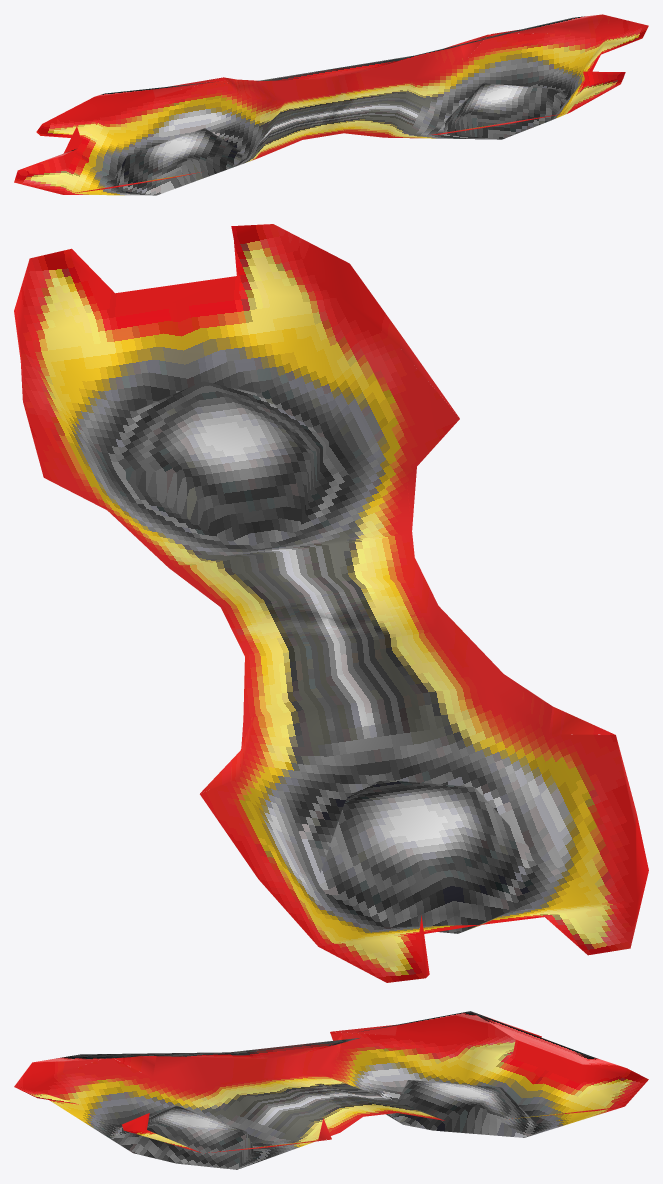
The model's file is ps2_save-icons_airblade.glb.
3 views of the same model, one above another, from view 1: azimuth 30°, elevation 25°; view 2: azimuth 150°, elevation 25°; view 3: azimuth 270°, elevation 25° (orthographic). The views are drawn at different scales.
Visible parts, largest first — view 1: view.ico; view 2: view.ico; view 3: view.ico.
Boxes of the visible parts, x1,y1,x2,y2 form: view.ico: (14, 14, 648, 195); view.ico: (14, 224, 648, 982); view.ico: (14, 1011, 648, 1169).
Size of the model in its own units: 3.59 by 1.22 by 3.32.
Materials: 1 (1 with a texture image).
